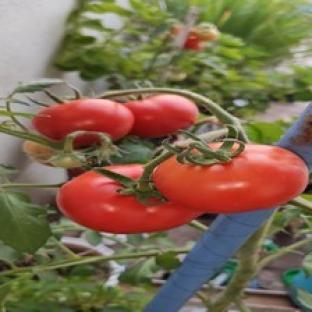Tomato: (154, 144, 309, 213), (58, 172, 200, 233), (31, 98, 133, 140), (126, 94, 199, 137), (23, 141, 80, 168), (184, 38, 203, 51)
